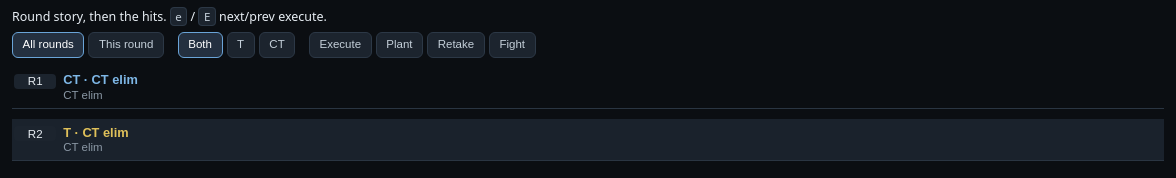
it: Action › filters to this round when toggled
What coordinates should you click on to do the following:
click the button "This round"
I would click on:
 (126, 45)
Its box is [88, 32, 164, 58].
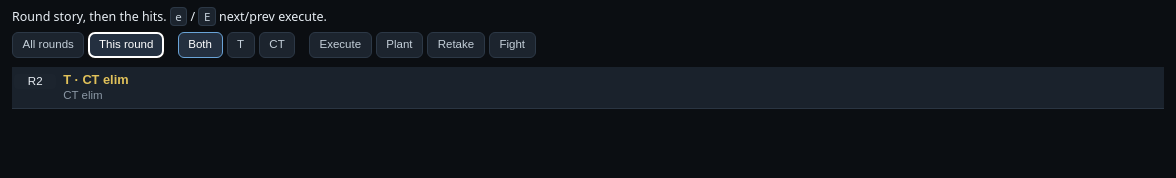
Check: the button "R2 T · CT elim CT elim" is shown, box [12, 67, 1164, 109]
Check: the button "R1" is gone
